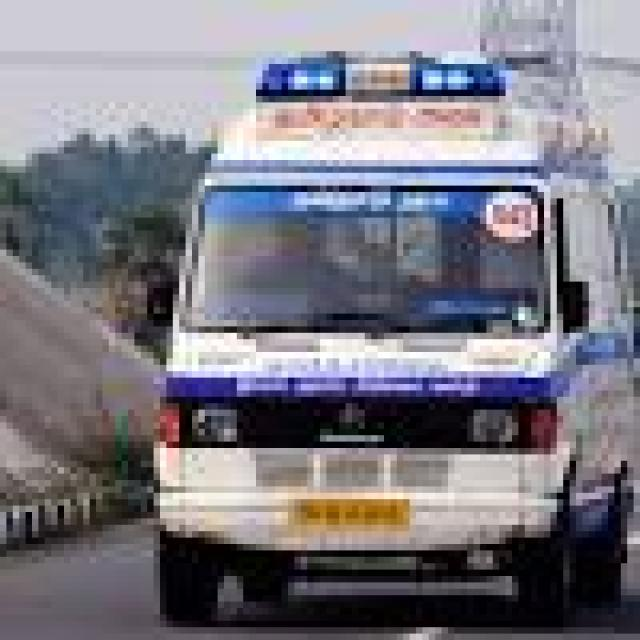ambulance: (151, 52, 640, 638)
